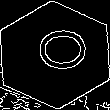O_W: (25, 32, 85, 78)
